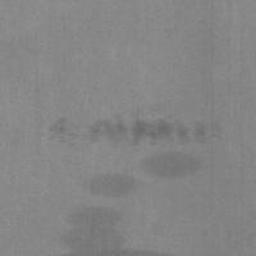Oil spot: (44, 100, 225, 180), (52, 202, 180, 256), (82, 172, 138, 200)
